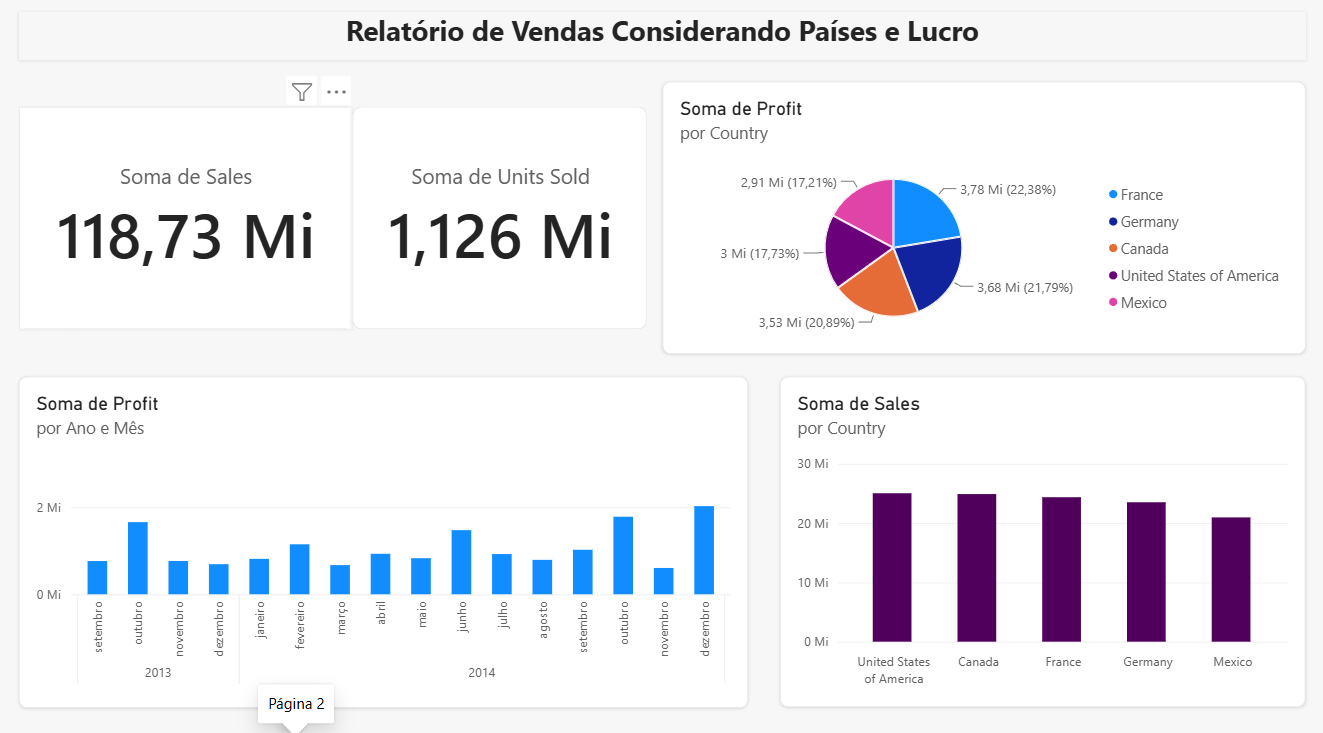

What the dashboard file says about the page in this screenshot:
{"tool":"powerbi","page":{"name":"Página 2","canvas":[1280,720],"ordinal":1},"visuals":[{"type":"textbox","box":[18.3,17.1,1242.4,46.5],"z":0},{"type":"cardVisual","fields":{"Data":["Sum(financials.Sales)"]},"box":[18.3,108.8,321.6,215.2],"z":1000},{"type":"cardVisual","fields":{"Data":["Sum(financials.Units Sold)"]},"box":[339.9,108.8,284.9,215.2],"z":2000},{"type":"pieChart","fields":{"Category":["financials.Country"],"Y":["Sum(financials.Profit)"]},"box":[639.5,84.4,621.2,262.9],"z":3000},{"type":"clusteredColumnChart","fields":{"Y":["Sum(financials.Profit)"],"Category":["financials.Date.Variation.Hierarquia de datas.Ano","financials.Date.Variation.Hierarquia de datas.Mês"]},"box":[18.3,369.3,704.4,320.4],"z":4000},{"type":"clusteredColumnChart","fields":{"Category":["financials.Country"],"Y":["Sum(financials.Sales)"]},"box":[753.3,369.3,507.5,319.2],"z":5000}]}

Visuals, with their boxes in screenshot pixels (x1, y1, x2, y2), scaled from the page's 1280x720 canvas onto the 1323x733 screenshot:
textbox: select_region(19, 17, 1303, 65)
cardVisual - Sum(financials.Sales): select_region(19, 111, 351, 330)
cardVisual - Sum(financials.Units Sold): select_region(351, 111, 646, 330)
pieChart - financials.Country x Sum(financials.Profit): select_region(661, 86, 1303, 354)
clusteredColumnChart - Sum(financials.Profit) x financials.Date.Variation.Hierarquia de datas.Ano: select_region(19, 376, 747, 702)
clusteredColumnChart - financials.Country x Sum(financials.Sales): select_region(779, 376, 1303, 701)
